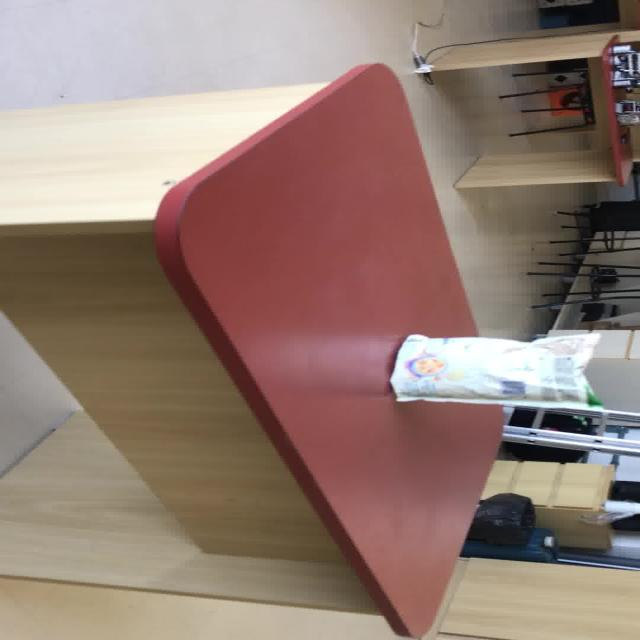corn flakes: (387, 331, 601, 406)
